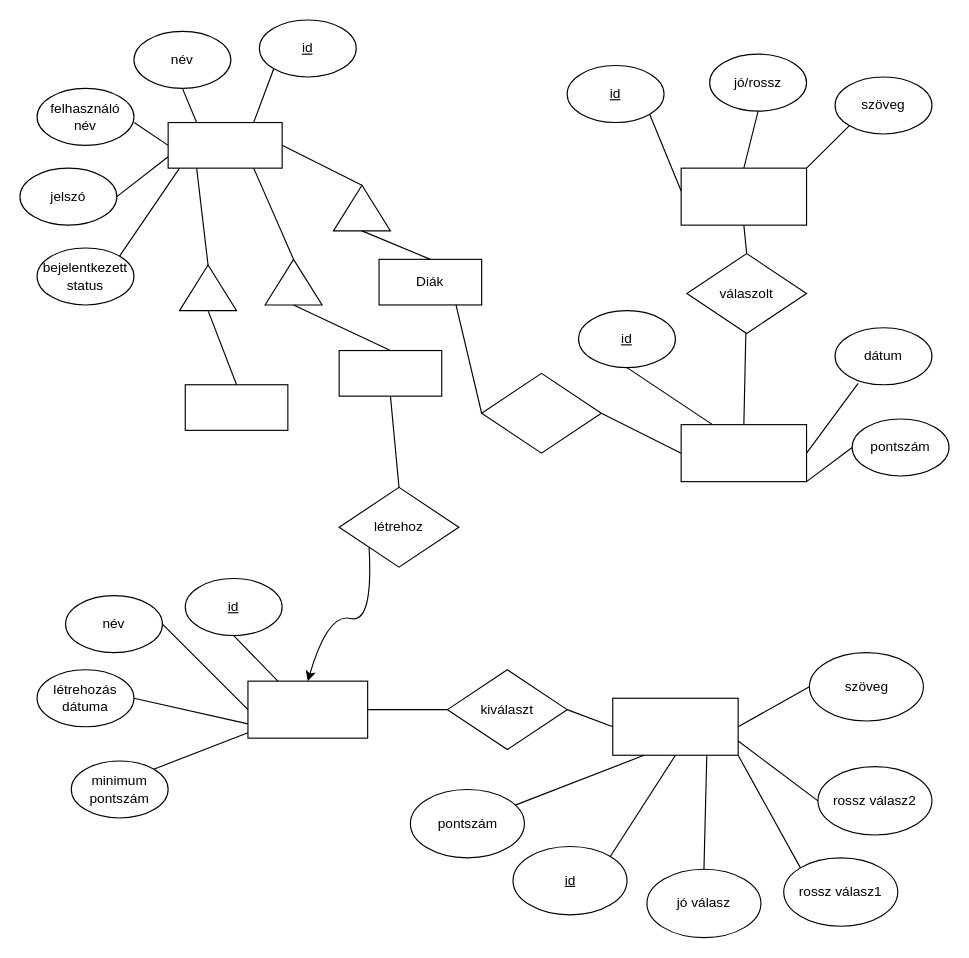
The diagram is 969 pixels wide and 958 high, and some of its shapes have lost their labels. The box of each missing label's shape, as (x1, y1, x2, y2) in pixels:
Admin: (184, 384, 288, 430)
bead: (481, 372, 601, 453)
Felhasználó: (167, 121, 282, 168)
kitöltések: (680, 424, 807, 482)
Kérdés: (612, 697, 738, 755)
Tanár: (338, 349, 442, 396)
Teszt: (247, 680, 368, 738)
válaszok: (680, 167, 807, 225)
